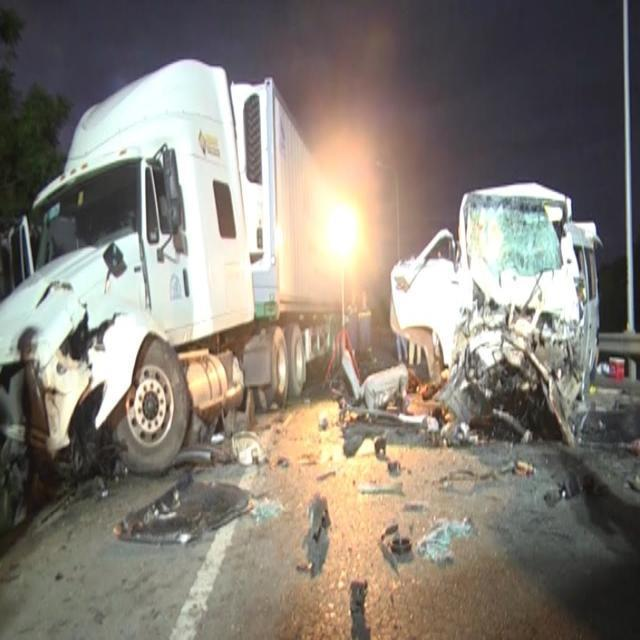accident: (0, 152, 261, 515), (378, 145, 617, 470)
